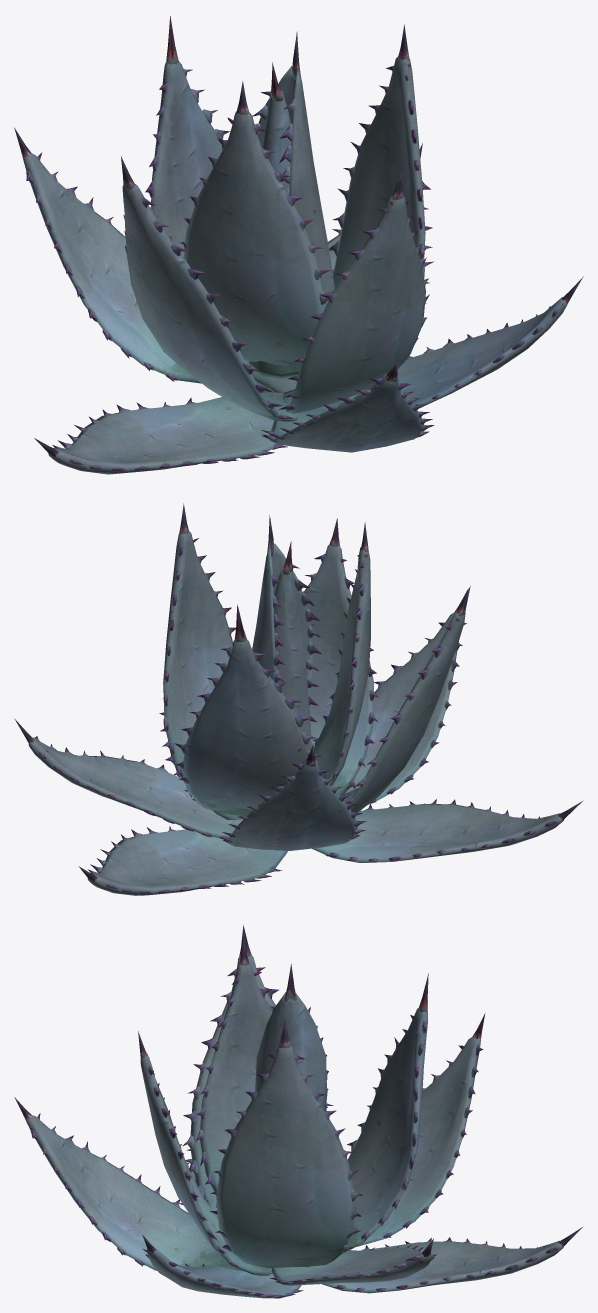
File: preview.glb
The picture shows the model from 3 angles, top to bottom: view 1: azimuth 30°, elevation 25°; view 2: azimuth 150°, elevation 25°; view 3: azimuth 270°, elevation 25°; orthographic projection. The views are drawn at different scales.
Visible parts, largest first — view 1: Succulent_Agave_parryi_B_Leaf_glb; view 2: Succulent_Agave_parryi_B_Leaf_glb; view 3: Succulent_Agave_parryi_B_Leaf_glb.
Boxes of the visible parts, x1,y1,x2,y2 form: Succulent_Agave_parryi_B_Leaf_glb: (14, 16, 583, 474); Succulent_Agave_parryi_B_Leaf_glb: (14, 503, 583, 895); Succulent_Agave_parryi_B_Leaf_glb: (14, 925, 583, 1298).
Size of the model in its own units: 0.4421 by 0.3069 by 0.4972.
1 material, 1 textured.
